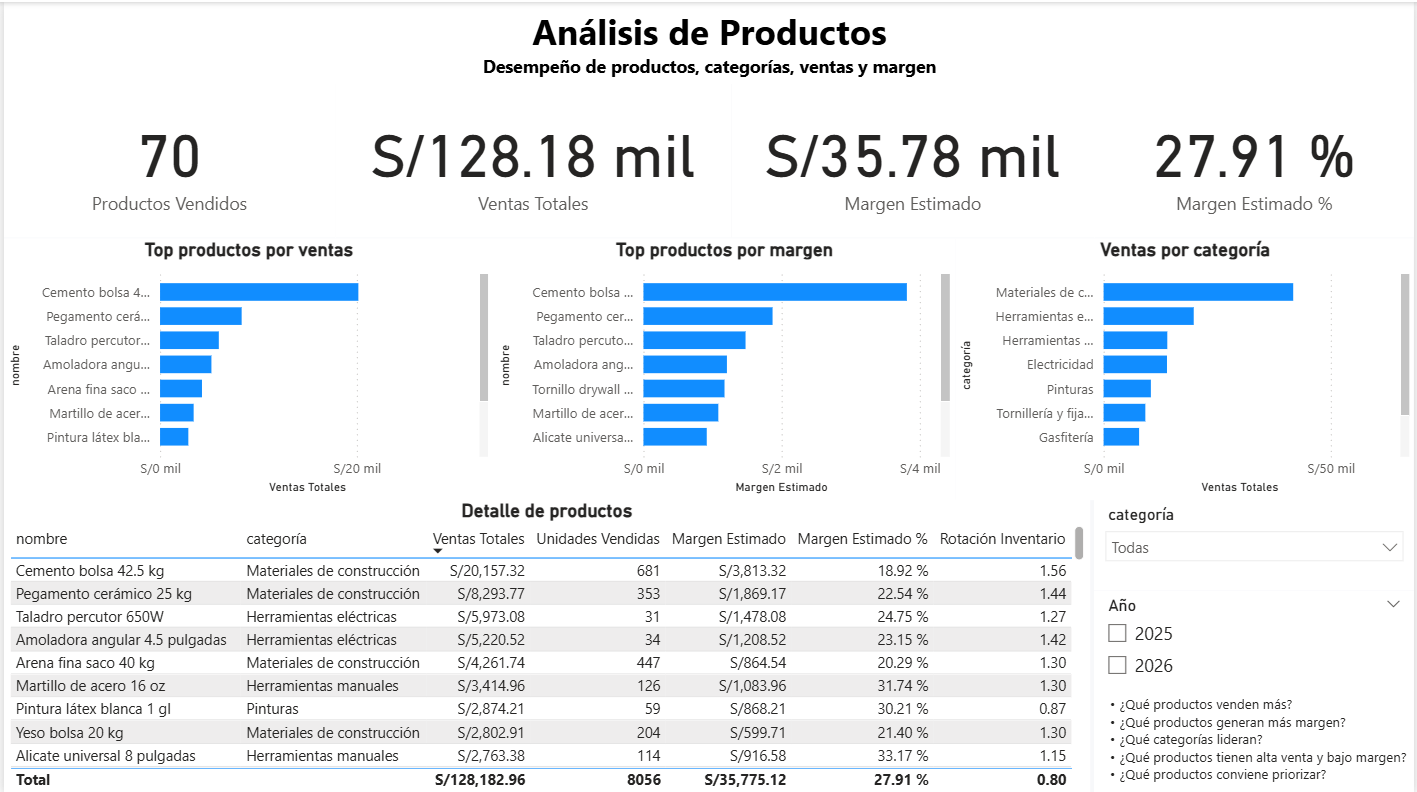

The page's visual inventory and layout, read from the dashboard file:
{"tool":"powerbi","page":{"name":"Productos","canvas":[1280,720],"ordinal":3},"visuals":[{"type":"card","fields":{"Values":["Medidas.Productos Vendidos"]},"box":[0,74.1,300.5,140],"z":0},{"type":"card","fields":{"Values":["Medidas.Margen Estimado"]},"box":[660,74.1,329.3,140],"z":1000},{"type":"card","fields":{"Values":["Medidas.Margen Estimado %"]},"box":[989.4,74.1,290.9,140],"z":2000},{"type":"card","fields":{"Values":["Medidas.Ventas Totales"]},"box":[300.5,74.1,359.5,140],"z":3000},{"type":"clusteredBarChart","title":"Top productos por ventas","fields":{"Category":["Productos.nombre"],"Y":["Medidas.Ventas Totales"]},"box":[0,214.1,444.6,237.4],"z":4000},{"type":"clusteredBarChart","title":"Top productos por margen","fields":{"Category":["Productos.nombre"],"Y":["Medidas.Margen Estimado"]},"box":[444.6,214.1,418.5,237.4],"z":5000},{"type":"clusteredBarChart","title":"Ventas por categoría","fields":{"Category":["Productos.categoría"],"Y":["Medidas.Ventas Totales"]},"box":[863.1,214.1,417.2,237.4],"z":6000},{"type":"tableEx","title":"Detalle de productos","fields":{"Values":["Productos.nombre","Productos.categoría","Medidas.Ventas Totales","Medidas.Unidades Vendidas","Medidas.Margen Estimado","Medidas.Margen Estimado %","Medidas.Rotación Inventario"]},"box":[0,451.5,985.3,269],"z":7000},{"type":"slicer","fields":{"Values":["Productos.categoría"]},"box":[989.4,451.5,290.9,82.3],"z":8000},{"type":"slicer","fields":{"Values":["Calendario.Año"]},"box":[989.4,533.8,290.9,90.6],"z":9000},{"type":"textbox","box":[0,0,1280.3,74.1],"z":10000},{"type":"textbox","box":[989.4,624.4,290.9,96.1],"z":10001}]}

Visuals, with their boxes in screenshot pixels (x1, y1, x2, y2), scaled from the page's 1280x720 canvas onto the 1417x792 screenshot:
card - Medidas.Productos Vendidos: 0, 82, 333, 236
card - Medidas.Margen Estimado: 731, 82, 1095, 236
card - Medidas.Margen Estimado %: 1095, 82, 1416, 236
card - Medidas.Ventas Totales: 333, 82, 731, 236
"Top productos por ventas" clusteredBarChart: 0, 236, 492, 497
"Top productos por margen" clusteredBarChart: 492, 236, 955, 497
"Ventas por categoría" clusteredBarChart: 955, 236, 1416, 497
"Detalle de productos" tableEx: 0, 497, 1091, 791
slicer - Productos.categoría: 1095, 497, 1416, 587
slicer - Calendario.Año: 1095, 587, 1416, 687
textbox: 0, 0, 1416, 82
textbox: 1095, 687, 1416, 791
